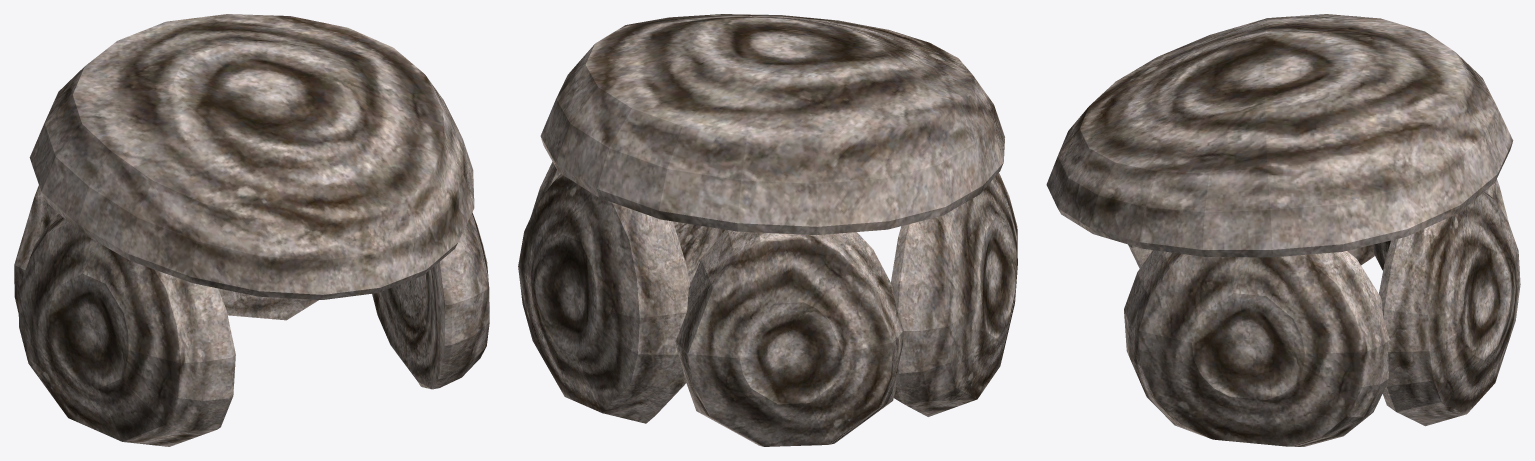
File: thm_dath_mtn_clan_tent_house_s01_l0.fbx
3 views of the same model, side by side, from view 1: azimuth 30°, elevation 25°; view 2: azimuth 150°, elevation 25°; view 3: azimuth 270°, elevation 25° (orthographic). The views are drawn at different scales.
Parts seen in each view (by area): view 1: mesh_node; view 2: mesh_node; view 3: mesh_node.
Part boxes in pixels (x1,y1,x2,y2): mesh_node: (14, 14, 489, 446); mesh_node: (518, 14, 1017, 446); mesh_node: (1046, 14, 1520, 446).
Size of the model in its own units: 11.6 by 8.73 by 11.93.
Materials: 2 (2 with a texture image).
